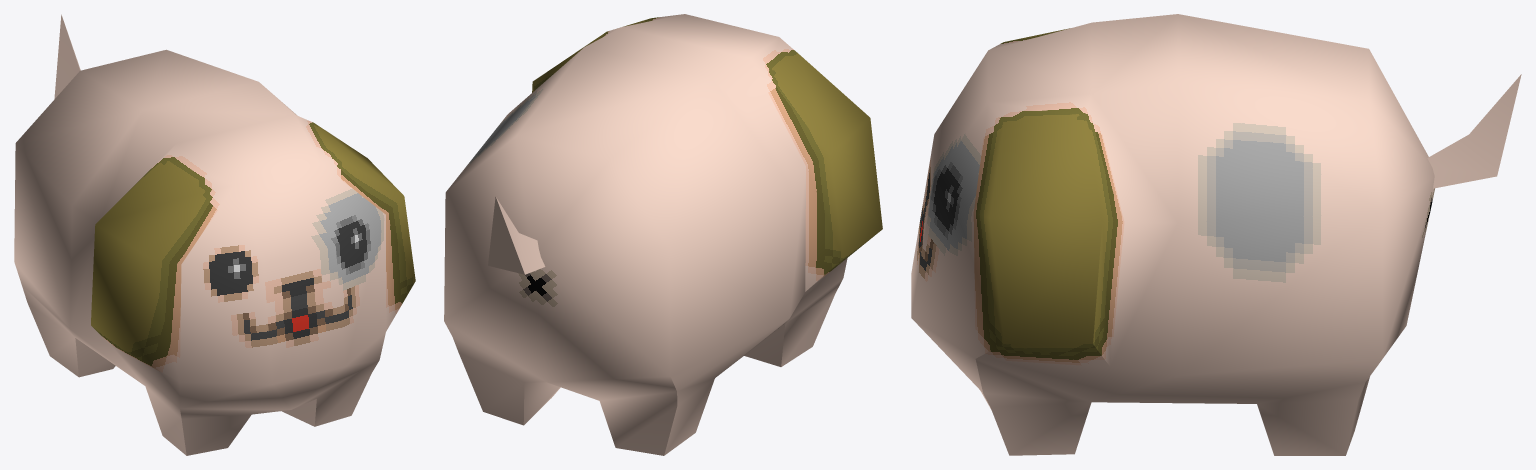
Rendered from dog.obj.
3 renders of one model, left to right at view 1: azimuth 30°, elevation 25°; view 2: azimuth 150°, elevation 25°; view 3: azimuth 270°, elevation 25°, orthographic. The views are drawn at different scales.
Visible parts, largest first — view 1: polygon0, polygon1; view 2: polygon1, polygon0; view 3: polygon1, polygon0.
Part boxes in pixels (<box>): polygon0: <box>70,82,415,419</box>; polygon1: <box>14,14,371,455</box>; polygon1: <box>444,47,834,455</box>; polygon0: <box>532,14,882,323</box>; polygon1: <box>980,14,1521,455</box>; polygon0: <box>911,14,1178,407</box>.
Bounding box in the file's own units: 1.3 × 1.24 × 1.93.
